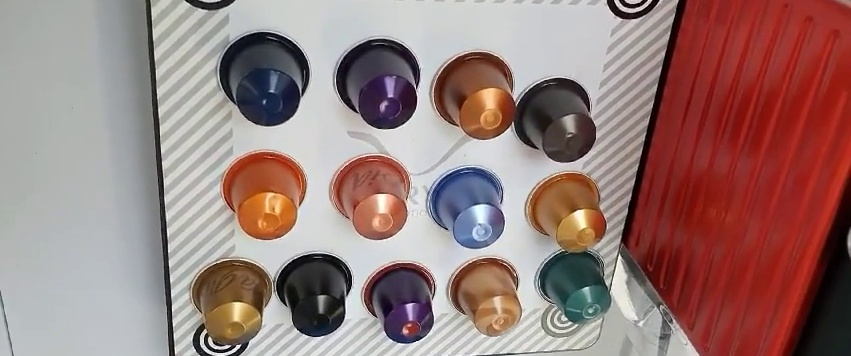capsule_1: (213, 33, 309, 128)
capsule_10: (275, 252, 355, 338)
capsule_11: (361, 259, 437, 347)
capsule_12: (446, 260, 523, 339)
capsule_13: (533, 246, 613, 325)
capsule_2: (334, 37, 420, 130)
capsule_3: (429, 45, 517, 142)
capsule_4: (514, 73, 595, 166)
capsule_5: (215, 150, 307, 237)
capsule_6: (328, 152, 411, 242)
capsule_7: (426, 164, 506, 250)
capsule_8: (523, 168, 607, 255)
capsule_9: (191, 259, 272, 343)
